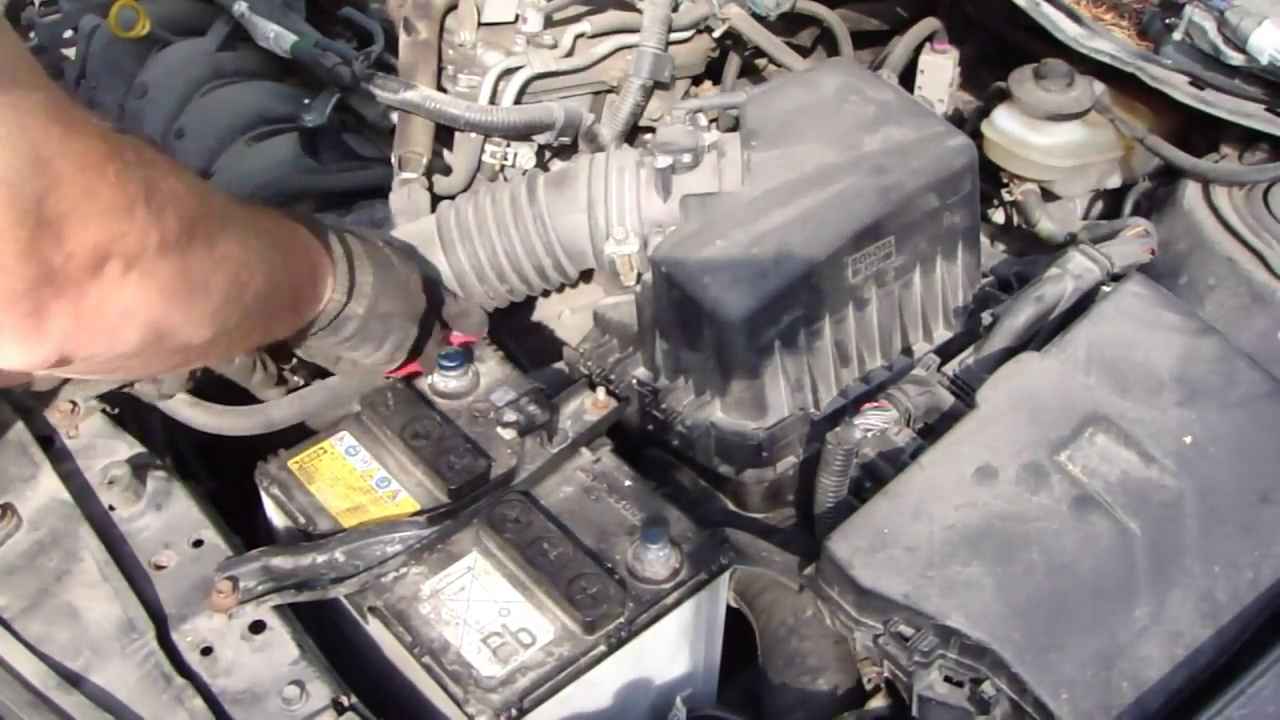battery: (255, 359, 719, 694)
